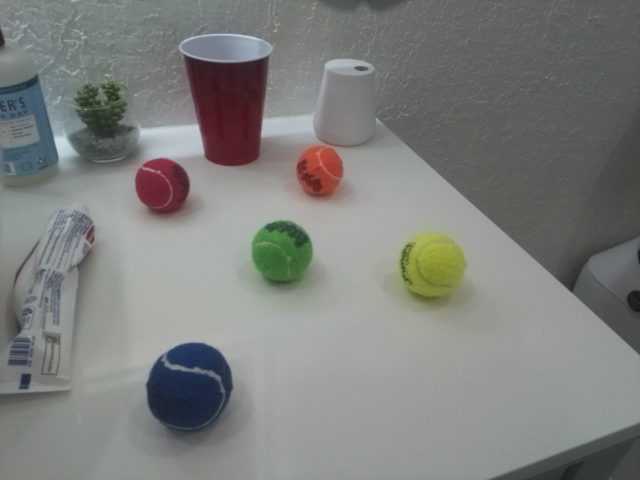blue-ball: (144, 340, 234, 435)
green-ball: (250, 218, 314, 284)
orange-ball: (294, 143, 343, 197)
red-ball: (134, 156, 191, 213)
yellow-ball: (398, 230, 468, 299)
